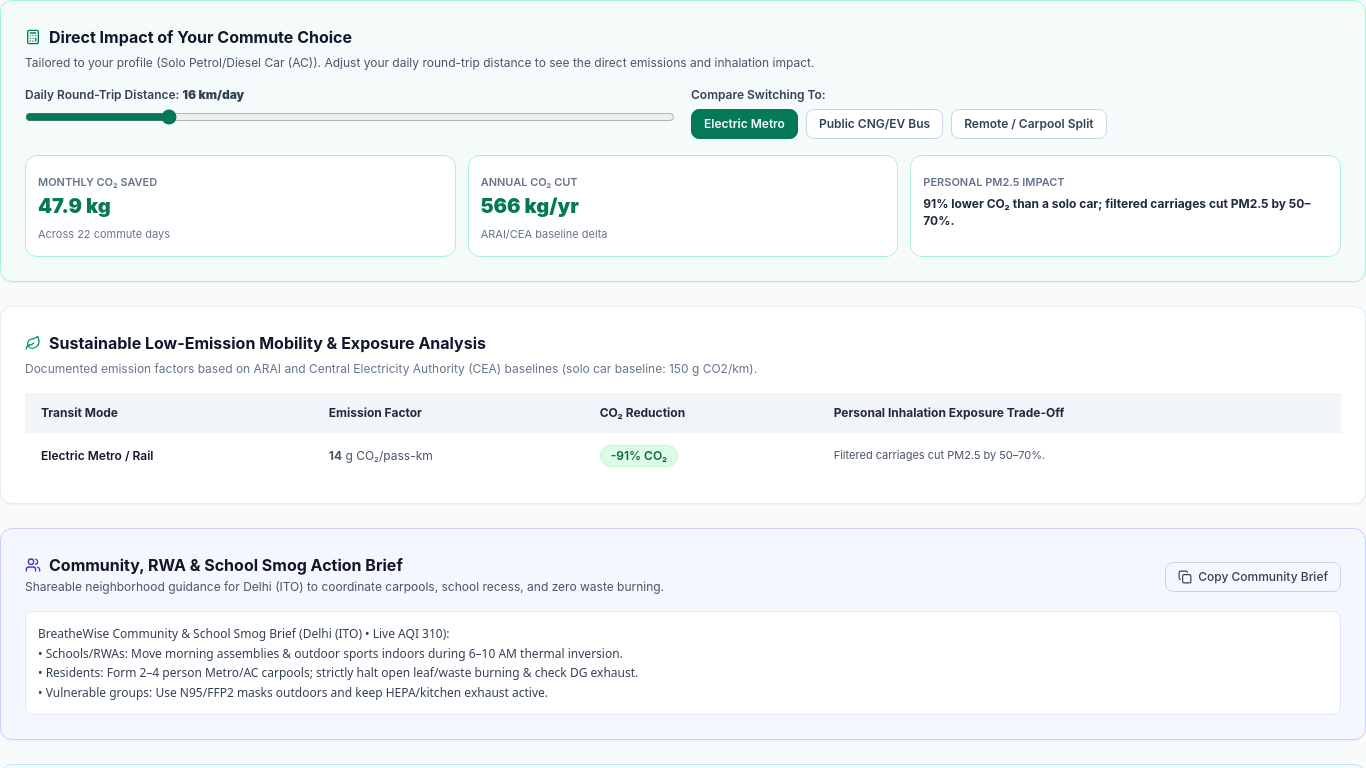
Test: SustainableAlternativesView › calculates direct monthly and annual CO2 savings for user's commute
Expected: the heading "Direct Impact of Your Commute Choice" is shown, x1=25 y1=27 x2=352 y2=47
Expected: the text "47.9 kg" is shown, x1=38 y1=194 x2=111 y2=218
Note: Switching target to Public Bus updates savings deterministically
What coordinates should you click on to do the following:
click the button "Public CNG/EV Bus"
I would click on:
 (874, 124)
Its box is x1=806 y1=109 x2=943 y2=139.
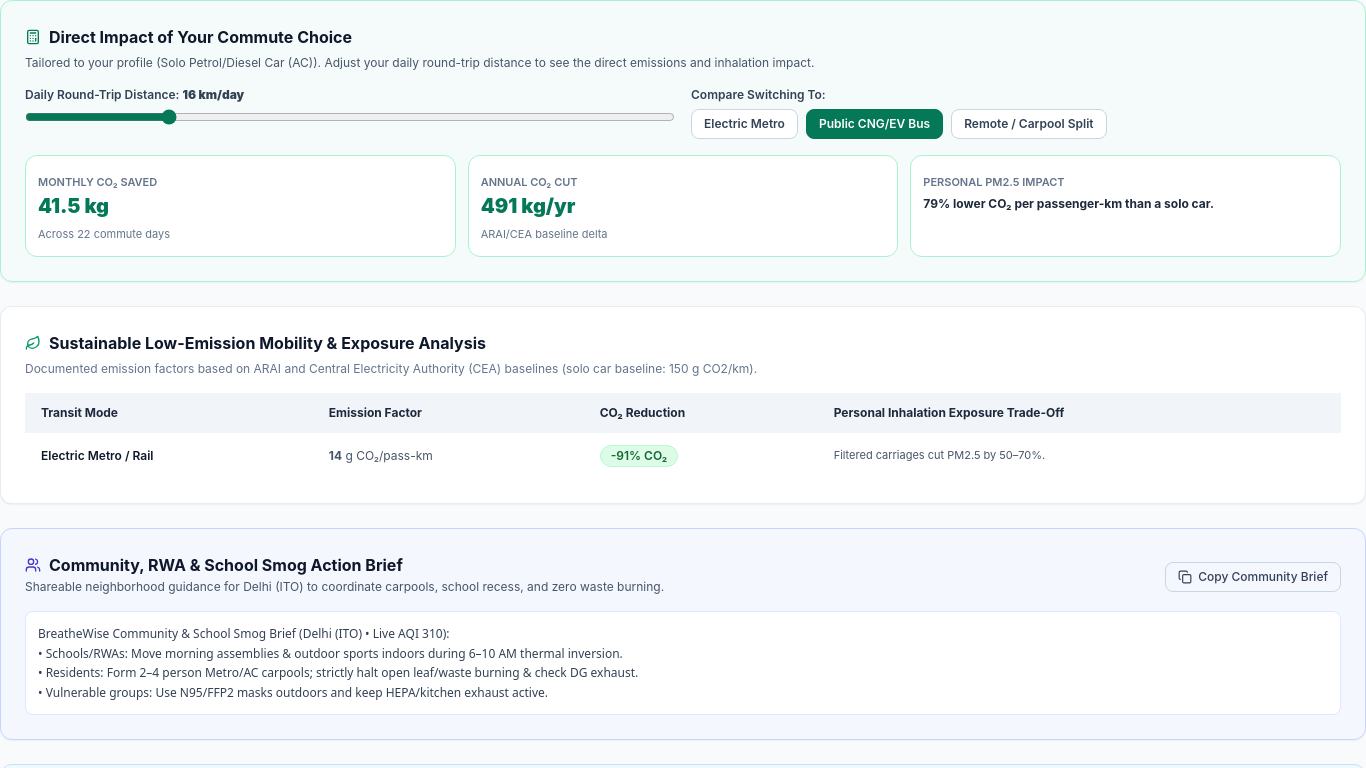
Now the text "41.5 kg" is shown, box x1=38 y1=194 x2=109 y2=218
